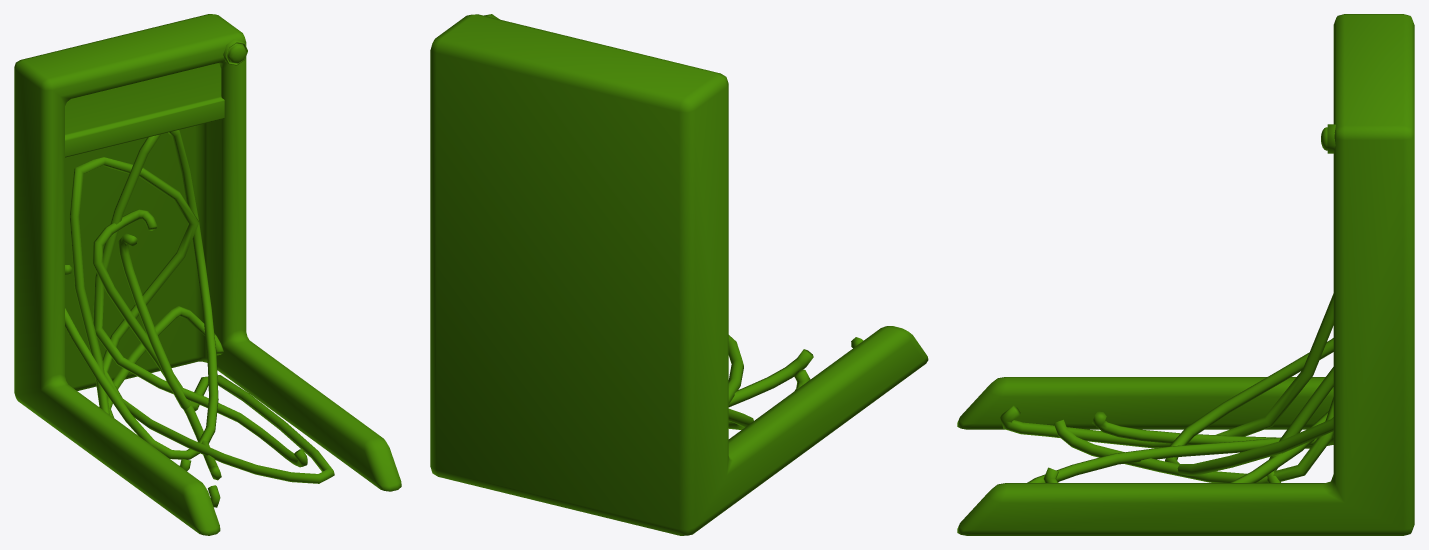
File: SM_ElectricityBox.fbx
The picture shows the model from 3 angles, left to right: view 1: azimuth 30°, elevation 25°; view 2: azimuth 150°, elevation 25°; view 3: azimuth 270°, elevation 25°; orthographic projection. The views are drawn at different scales.
Parts seen in each view (by area): view 1: SM_ElectricityBox; view 2: SM_ElectricityBox; view 3: SM_ElectricityBox.
Part boxes in pixels (x1=…): SM_ElectricityBox: x1=14, y1=14, x2=401, y2=535; SM_ElectricityBox: x1=430, y1=14, x2=928, y2=535; SM_ElectricityBox: x1=957, y1=14, x2=1414, y2=535.
Bounding box in the file's own units: 47.02 × 76.58 × 75.78.
